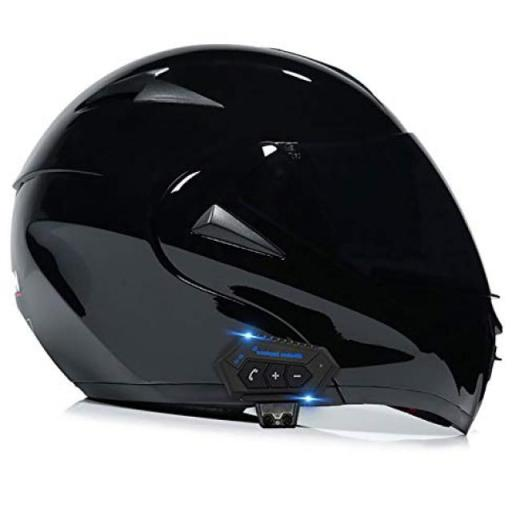Helmet: (12, 47, 500, 431)
